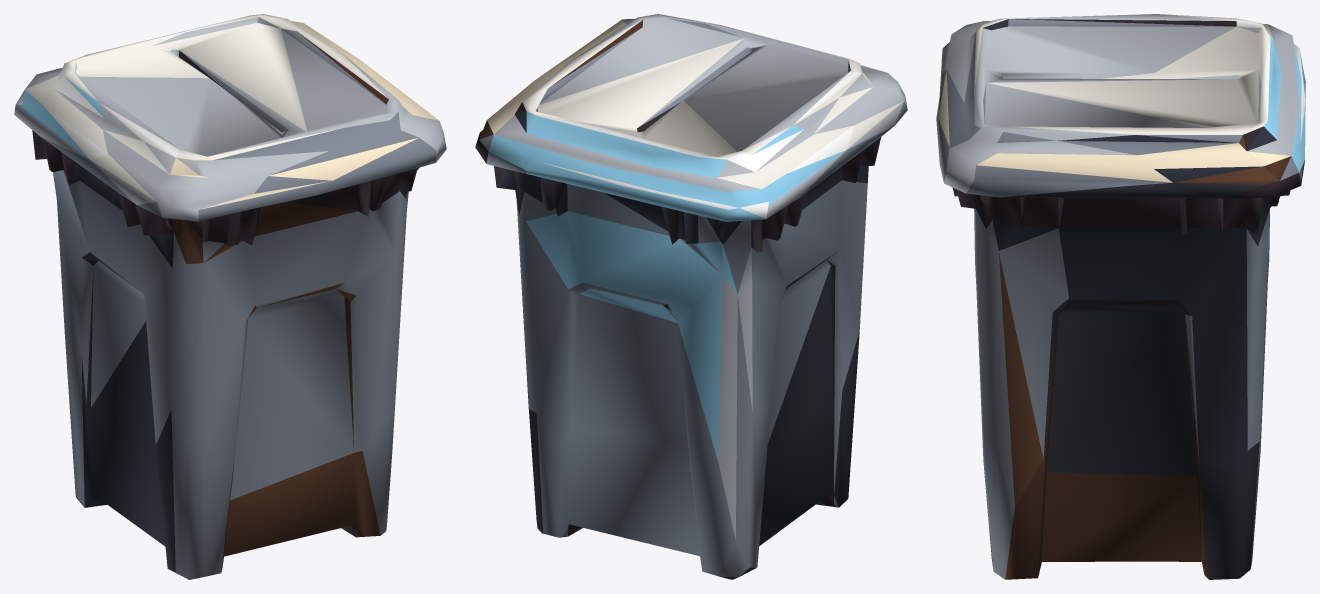
The model's file is SM_bin_trash_grey.glb.
3 renders of one model, left to right at view 1: azimuth 30°, elevation 25°; view 2: azimuth 150°, elevation 25°; view 3: azimuth 270°, elevation 25°, orthographic. The views are drawn at different scales.
Parts seen in each view (by area): view 1: SM_bin_trash_grey; view 2: SM_bin_trash_grey; view 3: SM_bin_trash_grey.
Boxes of the visible parts, x1,y1,x2,y2 form: SM_bin_trash_grey: (14, 14, 446, 579); SM_bin_trash_grey: (475, 14, 907, 579); SM_bin_trash_grey: (936, 14, 1305, 579).
Bounding box in the file's own units: 0.7243 × 1 × 0.7332.
1 material, 1 textured.
